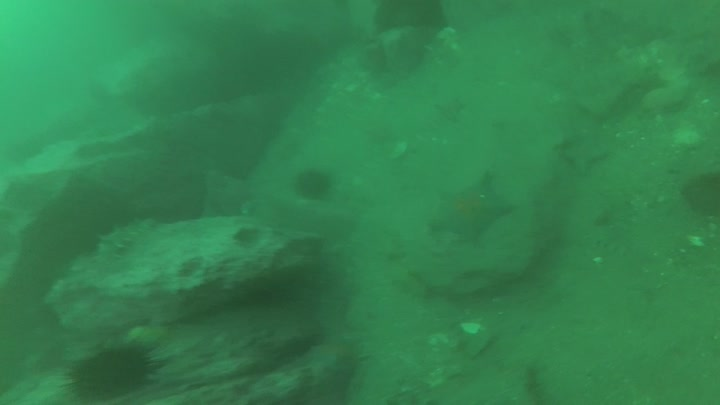echinus: (59, 340, 167, 401), (294, 168, 337, 201)
holothurian: (95, 216, 159, 265)
starfish: (431, 171, 513, 245), (564, 131, 611, 174), (435, 96, 466, 120)
